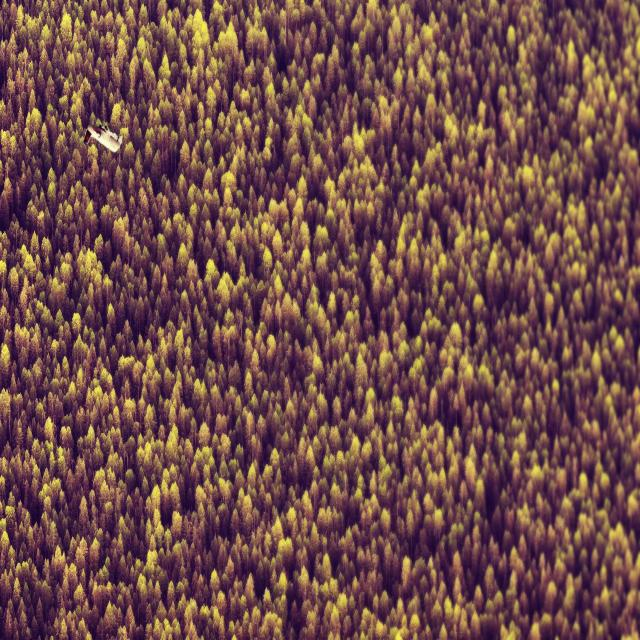airplane: (84, 122, 123, 154)
